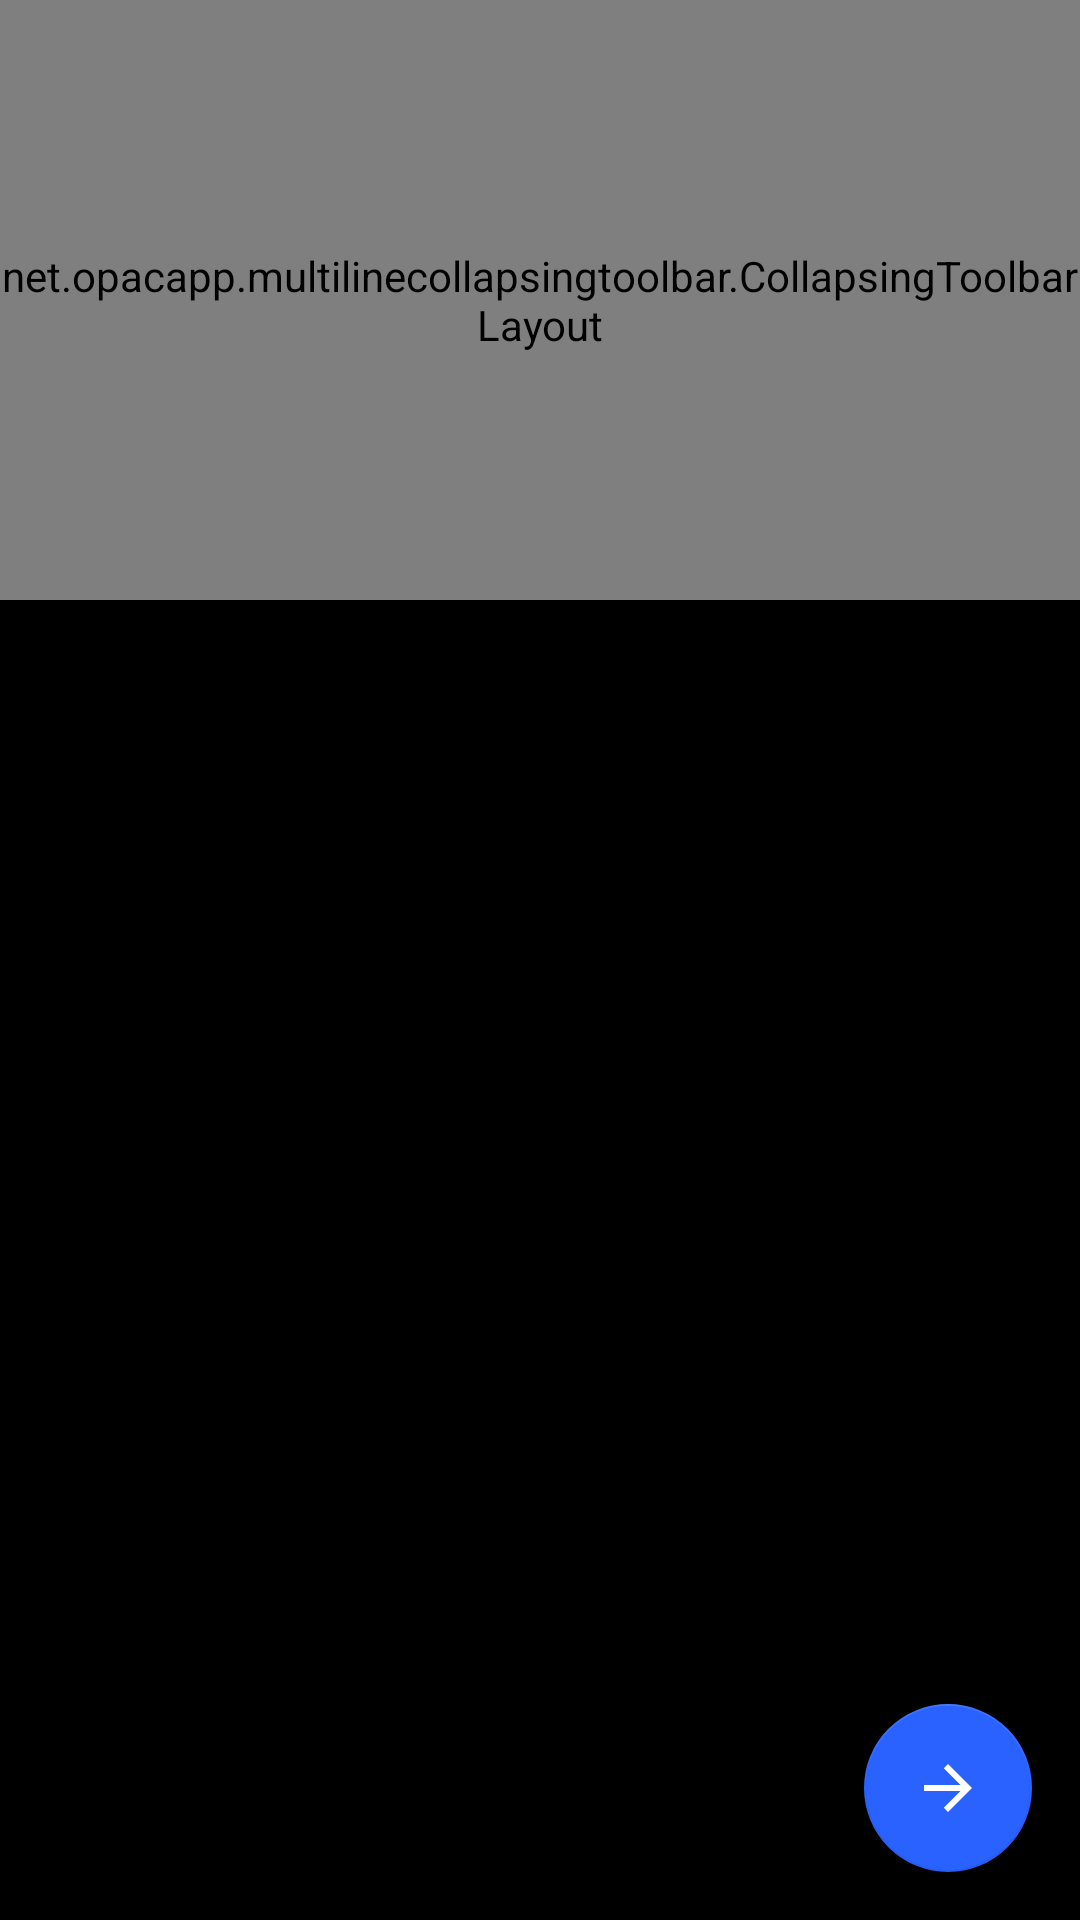

Point at icon controls on the screen. Image size 1080*1920, points as [x,y].
arrow forward: [948,1788]
